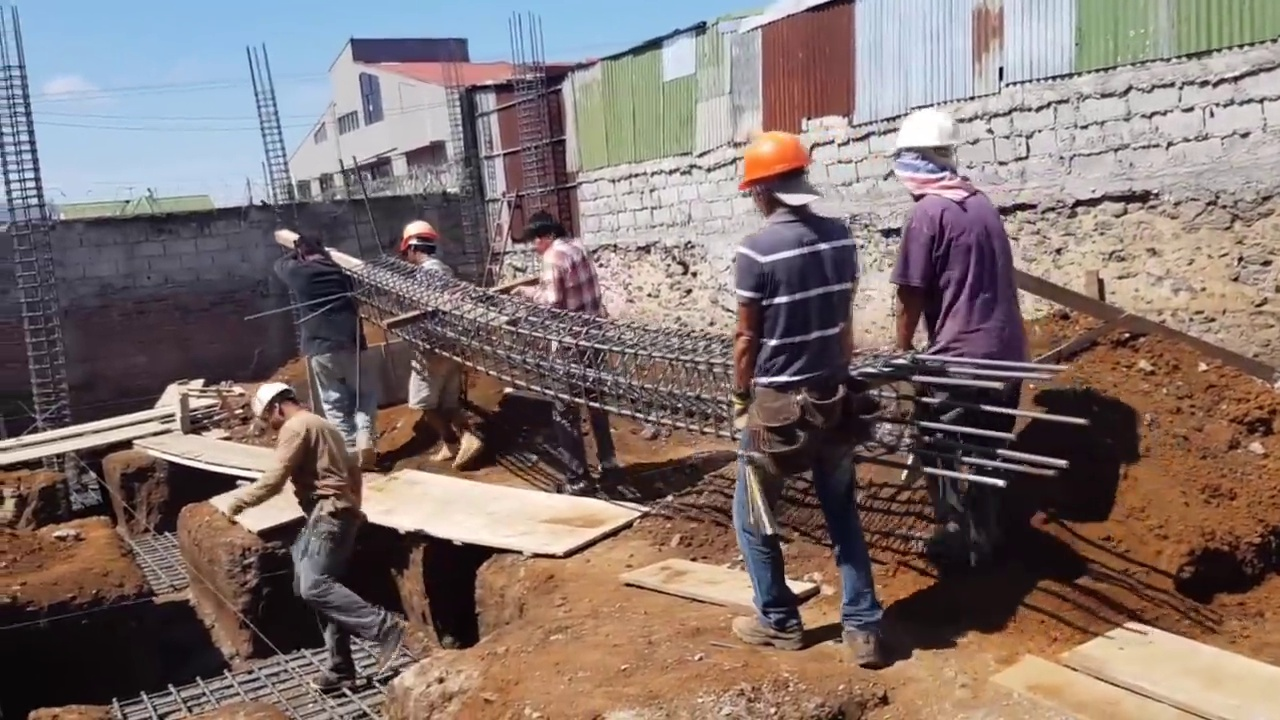helmet: (736, 134, 812, 194), (893, 98, 966, 150), (246, 380, 298, 422), (395, 222, 437, 251)
helmet-off: (527, 214, 562, 256), (287, 232, 317, 262)
helmet-on: (731, 128, 820, 217), (894, 103, 967, 198), (243, 384, 297, 434), (398, 221, 442, 266)
person: (722, 119, 886, 658), (883, 103, 1038, 604), (209, 388, 395, 692), (516, 206, 620, 499), (276, 229, 376, 474), (396, 219, 478, 473)
